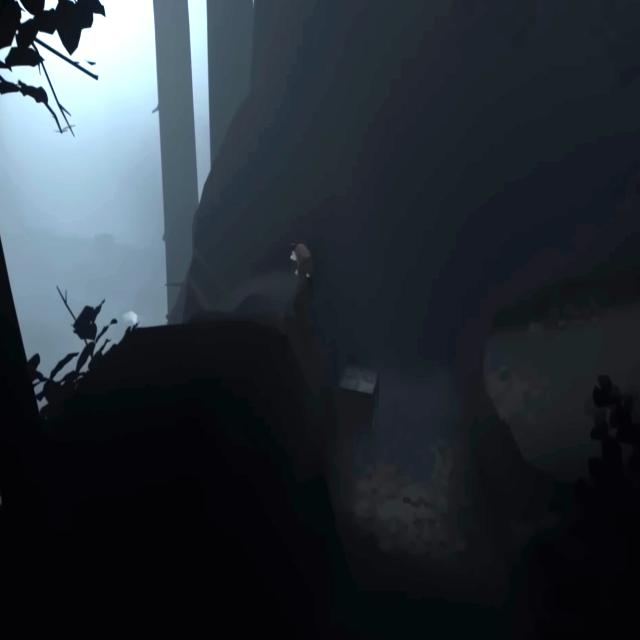boy: (288, 242, 312, 280)
